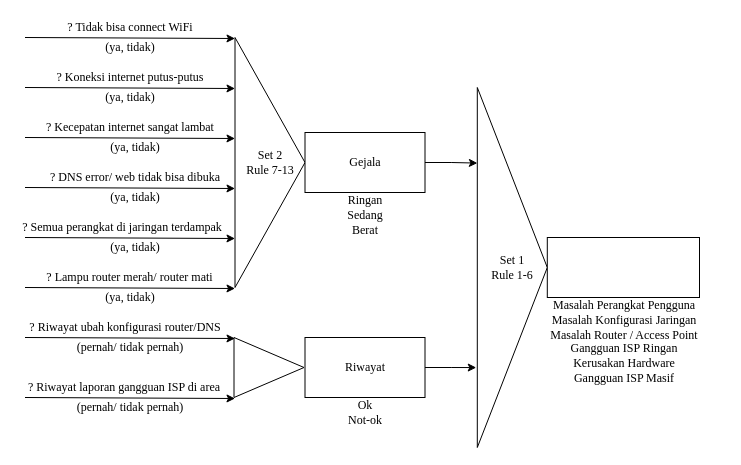
This 741x465 diagram has some shape labels left out. The centre of each missing label's shape, as x and y in pixels:
"Set 3 Rule 14-16" belongs at pixel 268 367.
"Target Diagnosa" belongs at pixel 623 267.
